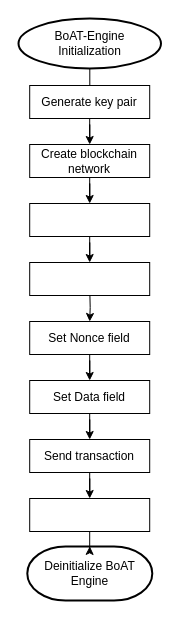
This 179x618 diagram has some shape labels left out. Here are the shapes that lost their labels. From the top down, the centre of each, then its label:
the point at 89,219: Initialize wallet
the point at 89,279: Initialize transaction
the point at 89,515: Deinitialize wallet
